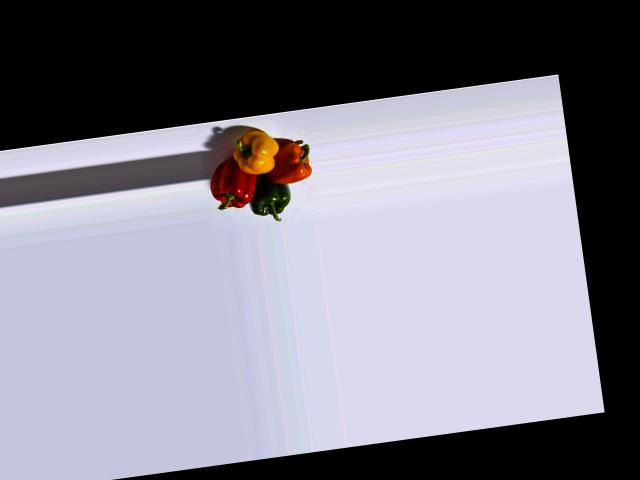bell_pepper: (205, 155, 261, 216)
